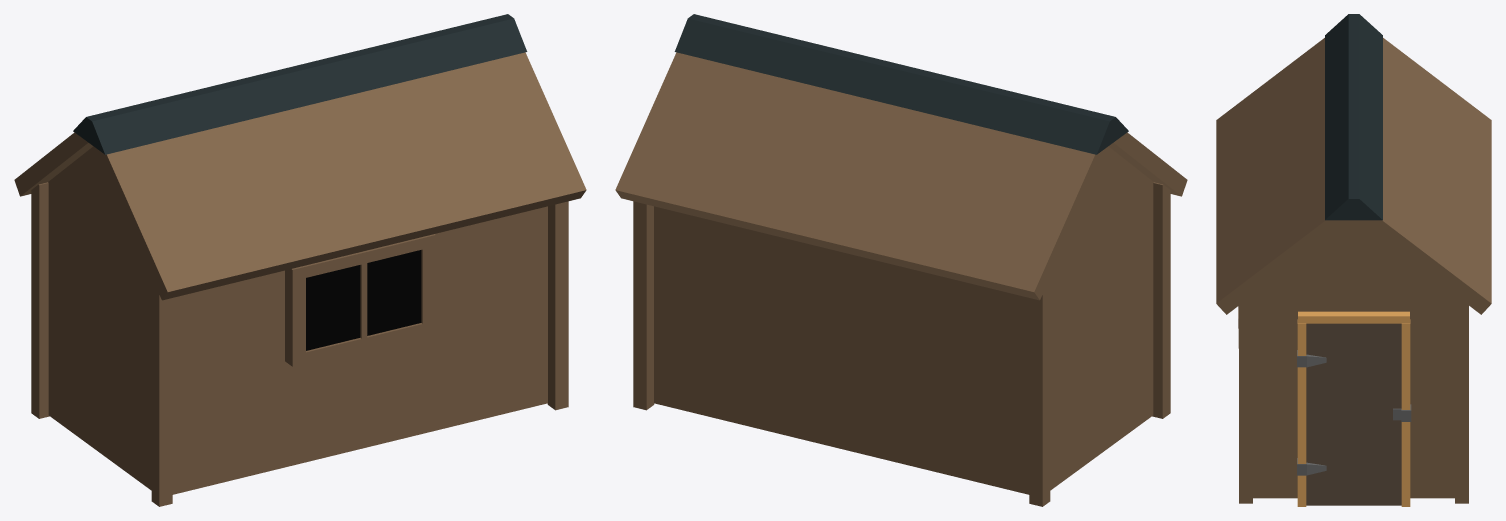
The model's file is ShedComplete.fbx.
The picture shows the model from 3 angles, left to right: view 1: azimuth 30°, elevation 25°; view 2: azimuth 150°, elevation 25°; view 3: azimuth 270°, elevation 25°; orthographic projection. The views are drawn at different scales.
Parts seen in each view (by area): view 1: Cube.019, Cube.015, Cube.026, Cube.020, Cube.017, Cube.016; view 2: Cube.018, Cube.019, Cube.026, Cube.020, Cube.016; view 3: Cube.019, Cube.014, Cube.021, Cube.020, Cube.016, Cube.022, Cube.023, Cube.024.
Part boxes in pixels (x1,y1,x2,y2): Cube.019: [14, 52, 586, 300]; Cube.015: [172, 206, 547, 494]; Cube.026: [48, 146, 151, 490]; Cube.020: [73, 14, 527, 154]; Cube.017: [285, 234, 435, 366]; Cube.016: [31, 182, 568, 506]; Cube.018: [654, 206, 1029, 494]; Cube.019: [615, 52, 1187, 300]; Cube.026: [1050, 146, 1153, 490]; Cube.020: [674, 14, 1128, 154]; Cube.016: [633, 182, 1170, 506]; Cube.019: [1216, 38, 1491, 314]; Cube.014: [1253, 220, 1454, 498]; Cube.021: [1306, 323, 1401, 505]; Cube.020: [1325, 14, 1382, 220]; Cube.016: [1239, 295, 1468, 503]; Cube.022: [1297, 319, 1410, 506]; Cube.023: [1298, 311, 1409, 323]; Cube.024: [1297, 350, 1326, 475].
Bounding box in the file's own units: 649 × 1033 × 802.
